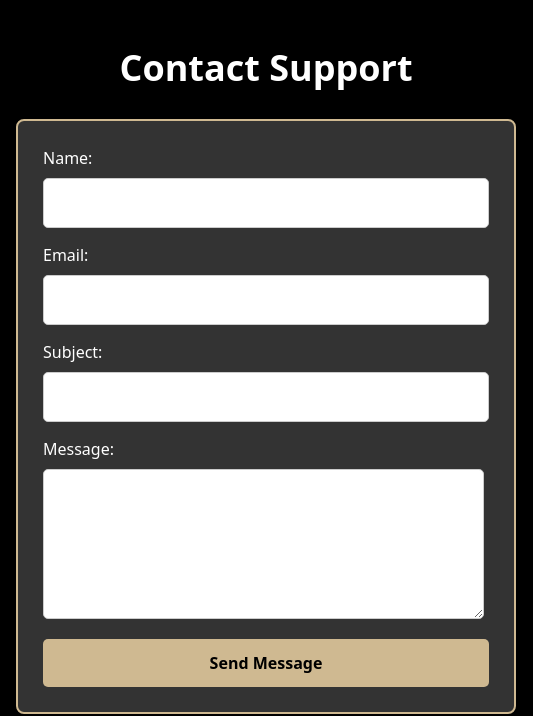
Test case: ContactSupport Component › displays error toast on failed submission
Type "John Doe" into the field titled "Name Input" at (266, 203), box [43,178,489,228]
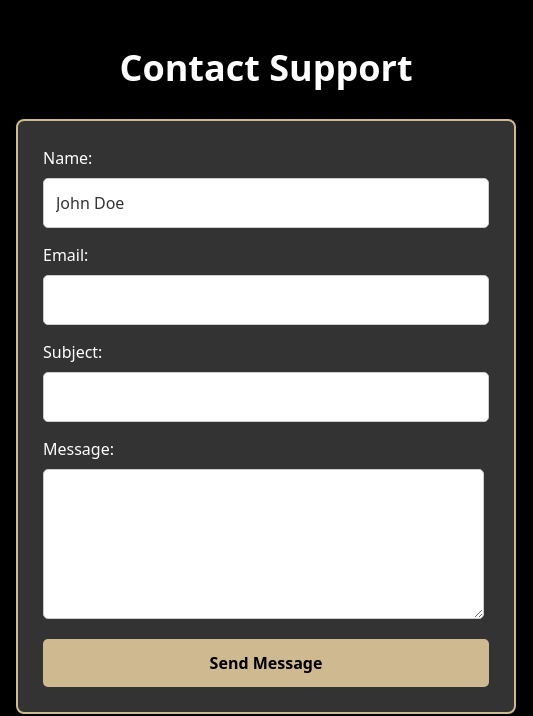
Type "john@example.com" into the field titled "Email Input" at (266, 300), box [43,275,489,325]
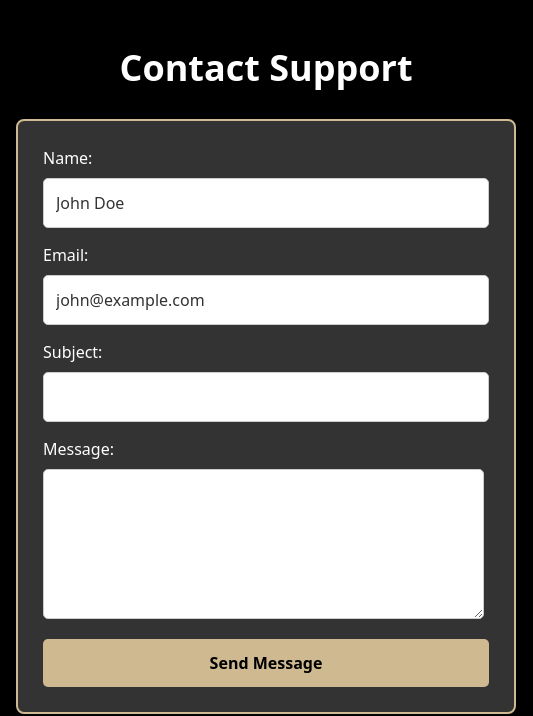
Type "Test Subject" into the field titled "Subject Input" at (266, 397), box [43,372,489,422]
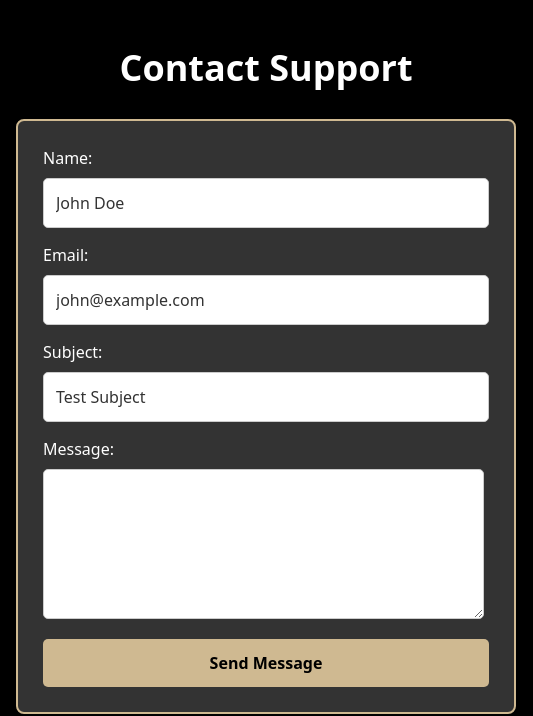
Type "This is a test message" into the text box titled "Message Input" at (264, 544), box [43,469,484,619]
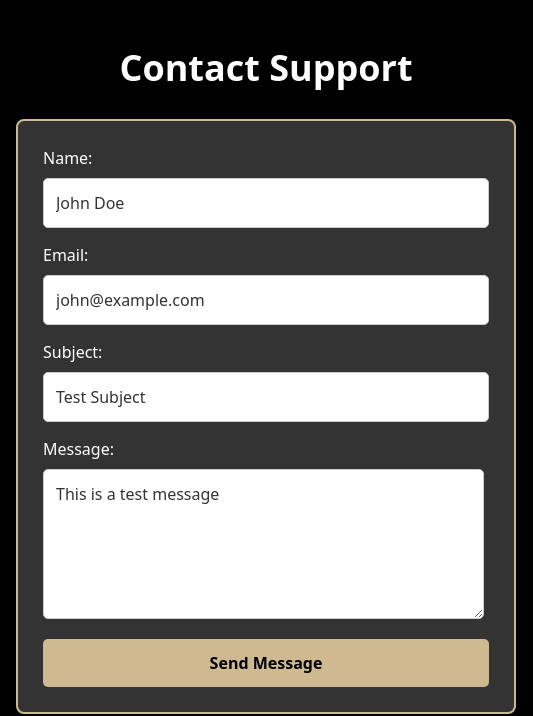
# Submit the form
Click the button "Send Message" at (266, 663), box [43,639,489,687]
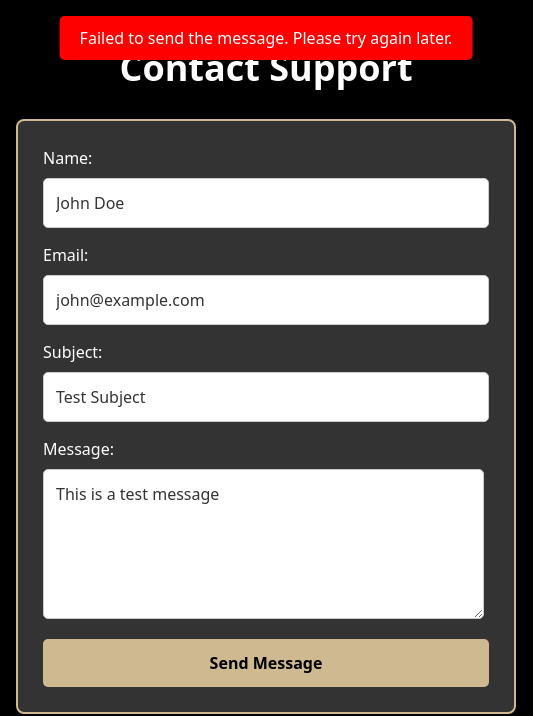
Expected: the text "Failed to send the message. Please try again later." is shown, [60,16,472,60]
